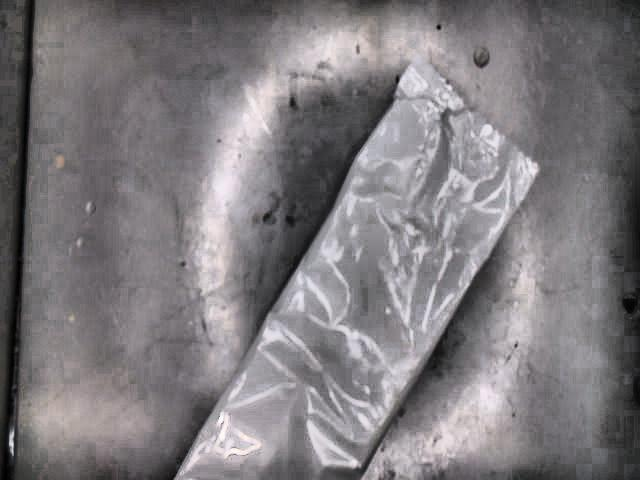Plastic: (165, 54, 546, 479)
